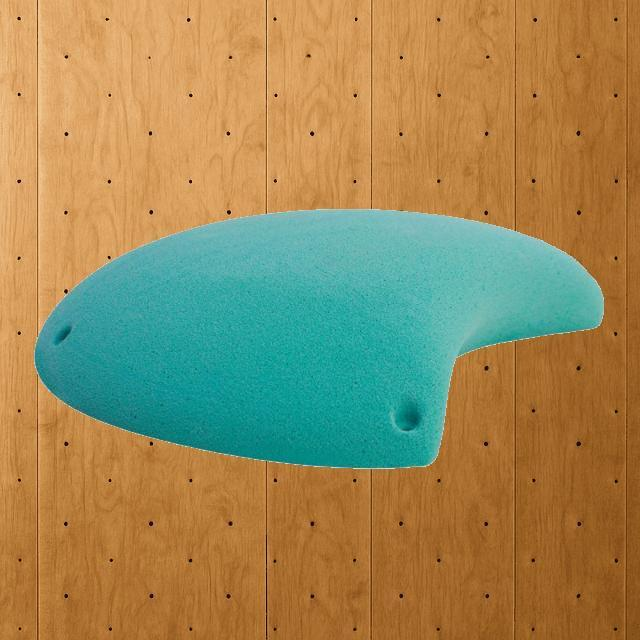Jug: (33, 206, 605, 468)
